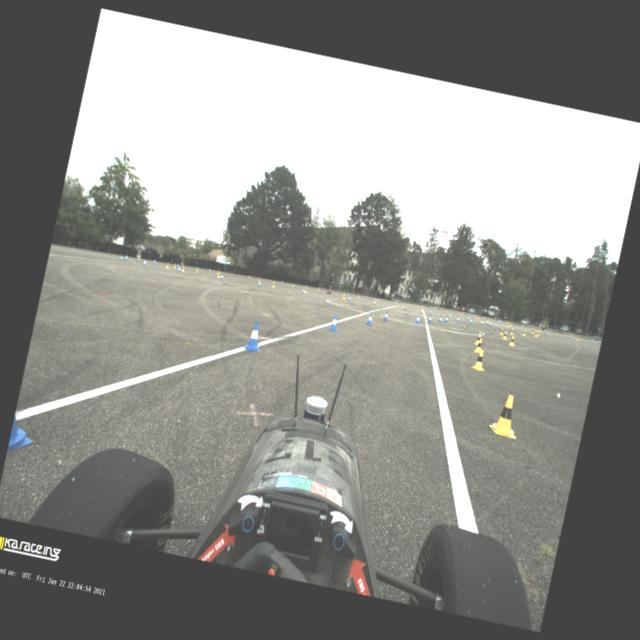blue_cone: (244, 320, 265, 352), (328, 313, 340, 332), (365, 312, 374, 326), (382, 310, 388, 321), (414, 314, 420, 324), (428, 315, 432, 323), (438, 315, 442, 323), (346, 296, 351, 302), (444, 315, 448, 322), (257, 280, 261, 286), (142, 259, 146, 265), (119, 254, 123, 260), (124, 254, 128, 260), (152, 258, 156, 264), (456, 316, 460, 322), (468, 317, 472, 323), (301, 288, 305, 294), (177, 265, 180, 272), (220, 274, 223, 280), (137, 256, 140, 262), (488, 320, 491, 326), (590, 338, 594, 342), (520, 324, 524, 328), (429, 309, 432, 314), (481, 320, 484, 325), (373, 300, 376, 304), (466, 316, 469, 320), (404, 304, 406, 310), (409, 302, 412, 306), (458, 311, 461, 315), (280, 280, 283, 284), (598, 339, 600, 344), (498, 321, 501, 324), (208, 268, 210, 272), (248, 275, 250, 279), (570, 334, 572, 338), (543, 328, 545, 332), (397, 300, 399, 304), (447, 312, 449, 316), (485, 320, 487, 324), (306, 284, 308, 288), (364, 295, 366, 298), (461, 312, 463, 315), (482, 316, 484, 319), (494, 318, 496, 321), (432, 306, 434, 309), (382, 298, 384, 300), (472, 314, 474, 316)
yellow_cone: (488, 392, 524, 438), (470, 348, 488, 372), (473, 337, 482, 352), (474, 332, 481, 345), (508, 336, 516, 346), (502, 330, 508, 339), (498, 327, 504, 335), (522, 328, 526, 336), (509, 328, 514, 334), (304, 287, 308, 293), (271, 281, 275, 287), (216, 272, 220, 278), (180, 266, 184, 272), (172, 262, 176, 268), (165, 262, 169, 268), (536, 330, 540, 336), (531, 328, 535, 333), (534, 331, 538, 336), (448, 311, 452, 316), (342, 294, 345, 300), (257, 276, 259, 282), (216, 269, 218, 275), (196, 266, 198, 272), (420, 306, 422, 312), (476, 315, 479, 319), (509, 322, 512, 326), (538, 328, 541, 332), (506, 322, 508, 327), (480, 317, 482, 322), (317, 286, 319, 291), (292, 282, 294, 287), (487, 318, 489, 322), (357, 294, 359, 298), (576, 336, 578, 340), (395, 300, 397, 304), (402, 304, 404, 308), (376, 296, 378, 300), (411, 303, 413, 307), (474, 314, 476, 318), (342, 290, 344, 294), (434, 307, 436, 310), (424, 306, 426, 308), (445, 310, 447, 312), (346, 292, 348, 294)
